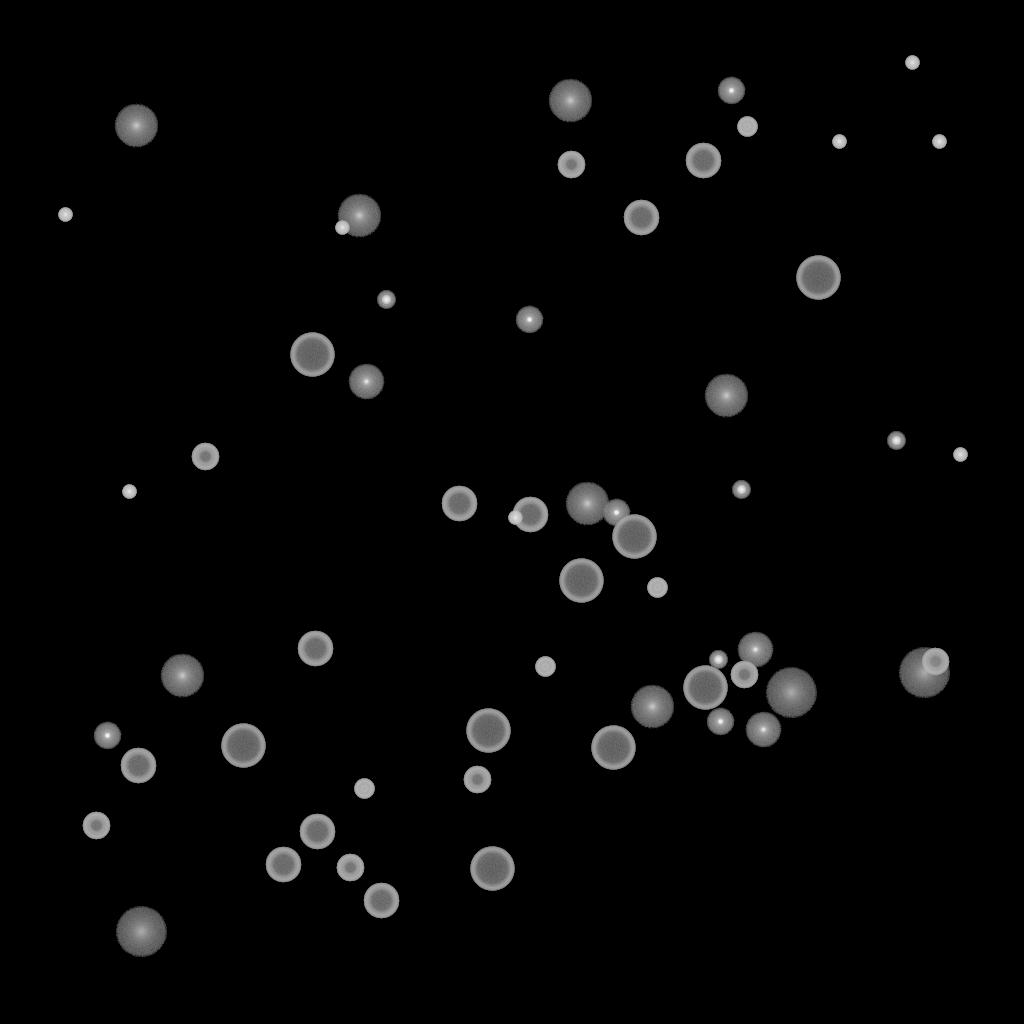depth:-10: (706, 708, 734, 736), (515, 306, 543, 334), (602, 499, 630, 527), (93, 722, 121, 750), (717, 77, 745, 105)
depth:-20: (709, 651, 727, 669), (732, 481, 750, 499), (887, 432, 905, 450), (377, 291, 395, 309)
depth:-30: (932, 135, 946, 149), (335, 221, 349, 235), (508, 511, 522, 525), (832, 135, 846, 149), (58, 208, 72, 222), (122, 485, 136, 499), (953, 448, 967, 462), (905, 56, 919, 70)
depth:-40: (535, 657, 555, 677), (354, 779, 374, 799), (647, 578, 667, 598), (737, 117, 757, 137)
depth:-50: (191, 443, 219, 471), (557, 151, 585, 179), (336, 854, 364, 882), (730, 661, 758, 689), (463, 766, 491, 794), (82, 812, 110, 840), (921, 648, 949, 676)
depth:-60: (120, 748, 156, 784), (441, 486, 477, 522), (265, 847, 301, 883), (512, 497, 548, 533), (299, 814, 335, 850), (297, 631, 333, 667), (363, 883, 399, 919), (623, 200, 659, 236), (685, 143, 721, 179)
depth:-70: (559, 559, 603, 603), (466, 709, 510, 753), (290, 333, 334, 377), (683, 666, 727, 710), (612, 515, 656, 559), (221, 724, 265, 768), (796, 256, 840, 300), (591, 726, 635, 770), (470, 847, 514, 891)
depth:0: (348, 364, 384, 400), (745, 712, 781, 748), (737, 632, 773, 668)
depth:10: (114, 104, 158, 148), (337, 194, 381, 238), (565, 482, 609, 526), (548, 79, 592, 123), (160, 654, 204, 698), (704, 374, 748, 418), (630, 685, 674, 729)
depth:20: (765, 668, 817, 718), (115, 907, 167, 957), (898, 648, 950, 698)
